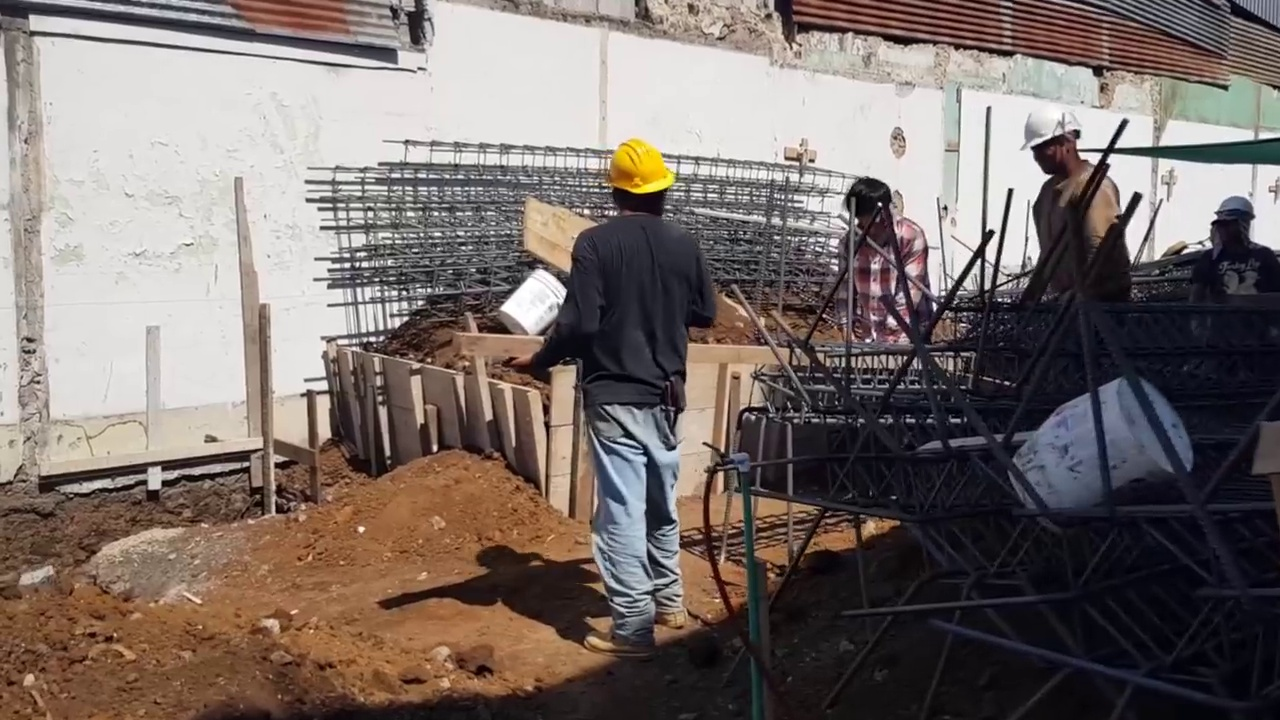helmet: (606, 135, 675, 200), (1020, 104, 1082, 153), (1212, 196, 1256, 222)
helmet-off: (838, 176, 898, 246)
helmet-on: (602, 129, 680, 222), (1020, 104, 1093, 187), (1212, 197, 1260, 255)
person: (495, 129, 721, 663), (1020, 103, 1132, 322), (834, 173, 929, 338), (1198, 195, 1278, 314)
